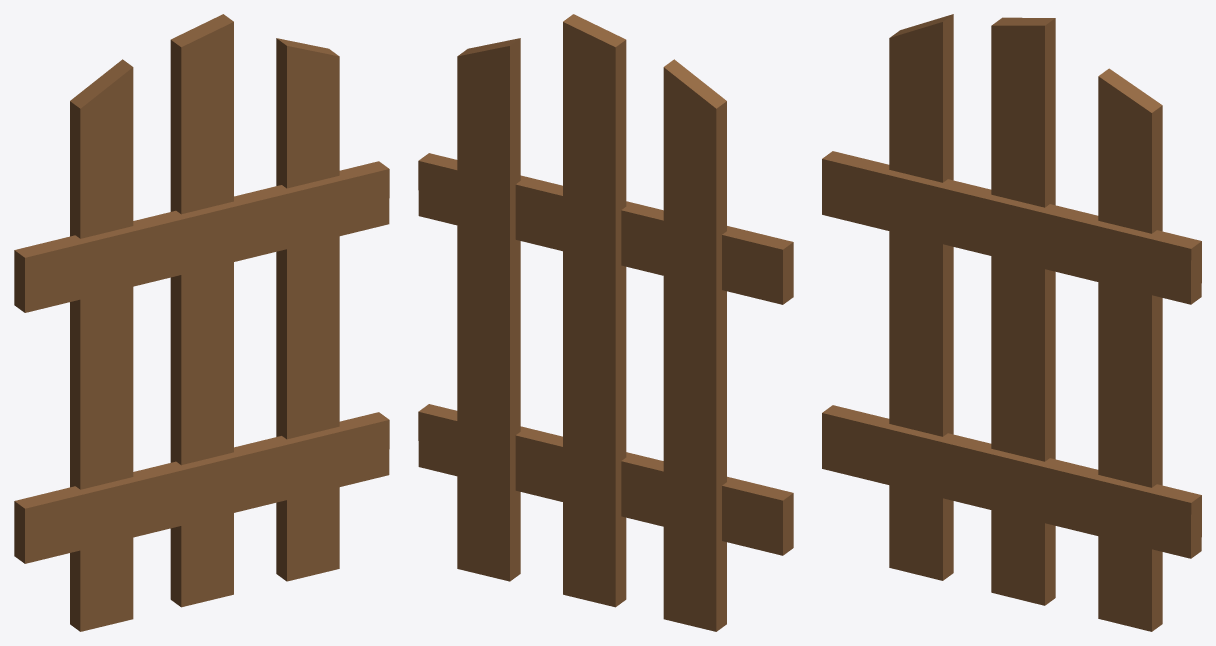
File: Castle_gate_1_mat.fbx
3 renders of one model, left to right at view 1: azimuth 30°, elevation 25°; view 2: azimuth 150°, elevation 25°; view 3: azimuth 330°, elevation 25°, orthographic.
Parts seen in each view (by area): view 1: Castle_gate_1_mat; view 2: Castle_gate_1_mat; view 3: Castle_gate_1_mat.
Part boxes in pixels (left/top/right/bottom): Castle_gate_1_mat: left=14, top=14, right=389, bottom=631; Castle_gate_1_mat: left=418, top=14, right=793, bottom=631; Castle_gate_1_mat: left=822, top=14, right=1201, bottom=631.
Bounding box in the file's own units: 1.32 × 1.98 × 0.101.
